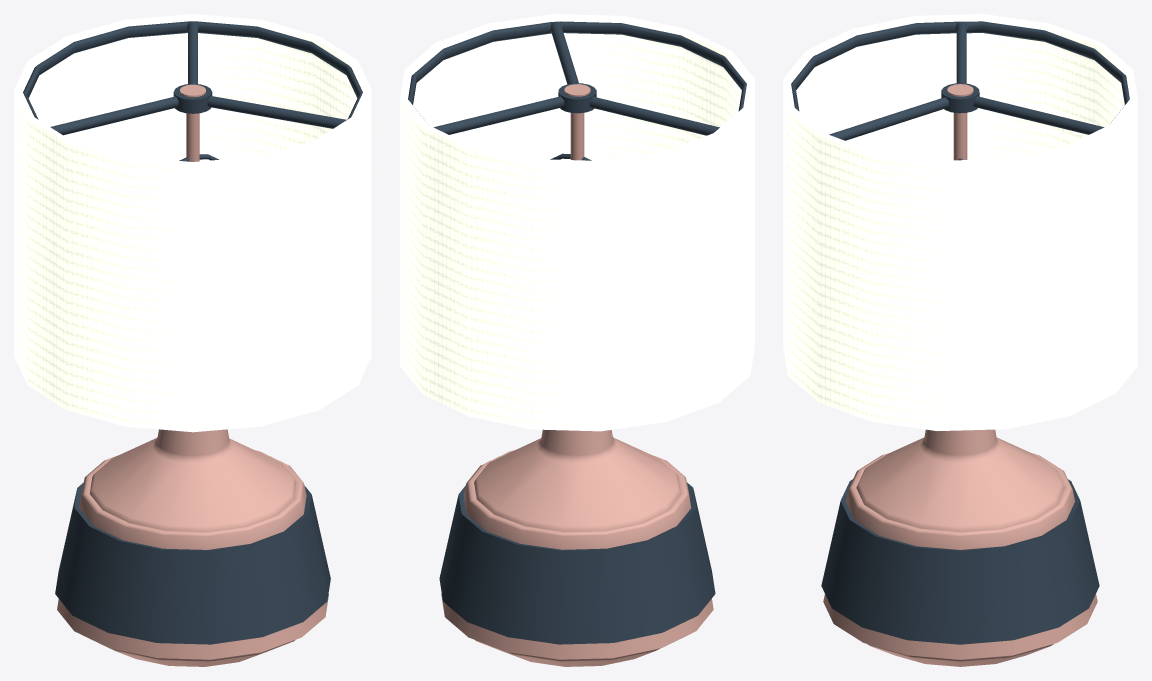
File: lamp_table.glb
The picture shows the model from 3 angles, left to right: view 1: azimuth 30°, elevation 25°; view 2: azimuth 150°, elevation 25°; view 3: azimuth 270°, elevation 25°; orthographic projection.
Parts seen in each view (by area): view 1: desk_lamp_6; view 2: desk_lamp_6; view 3: desk_lamp_6.
Boxes of the visible parts, box(x1,y1,x2,y2) form: desk_lamp_6: box(14, 14, 371, 666); desk_lamp_6: box(400, 14, 754, 666); desk_lamp_6: box(783, 14, 1137, 666).
Bounding box in the file's own units: 0.485 × 0.813 × 0.485.
4 materials, 1 textured.
